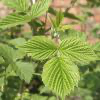Raspberry leaf: (42, 55, 81, 100), (14, 35, 58, 60), (57, 36, 99, 62)
